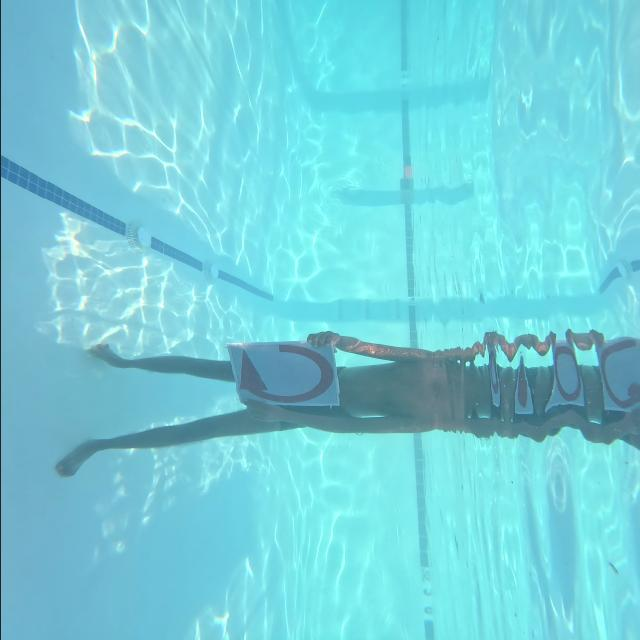red_side: (233, 339, 338, 406)
